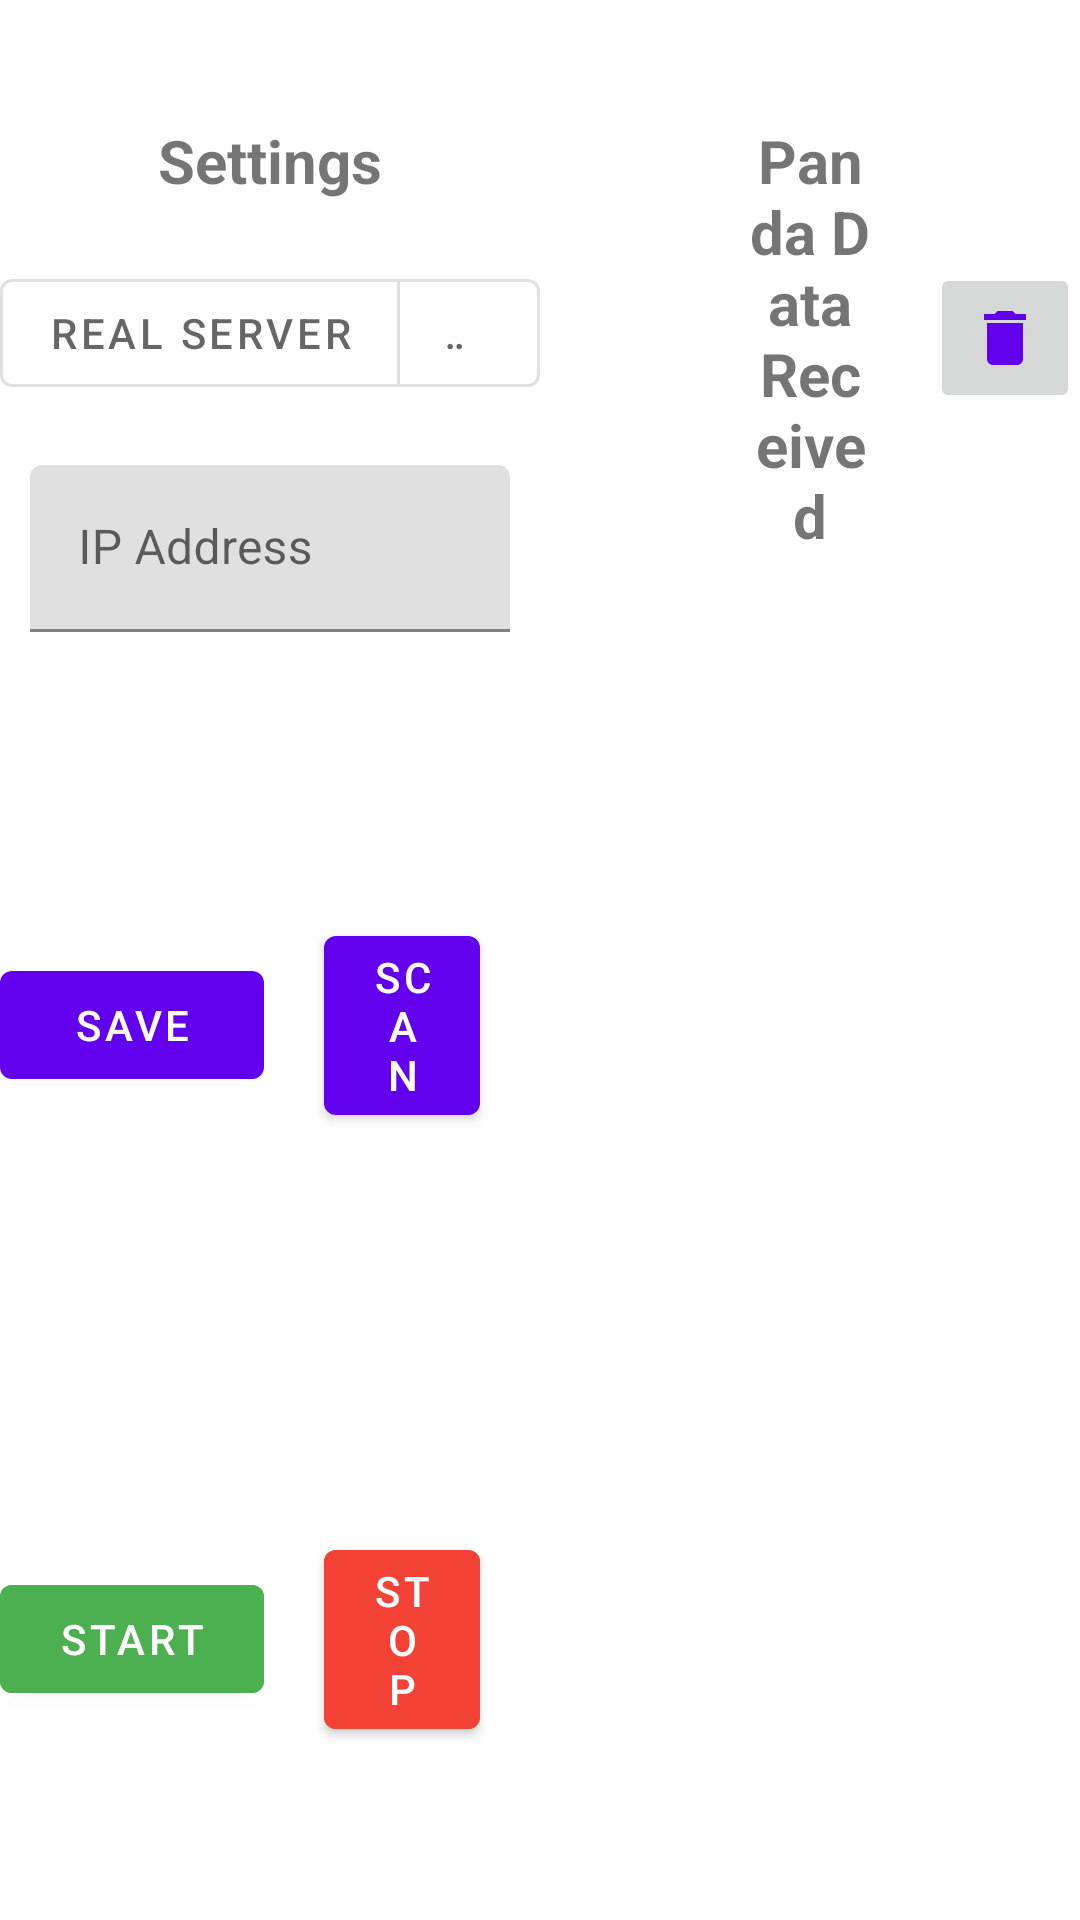

Icon click points for this 1080 × 1920 phone screenshot, format [x,y]:
delete: [1005,338]
